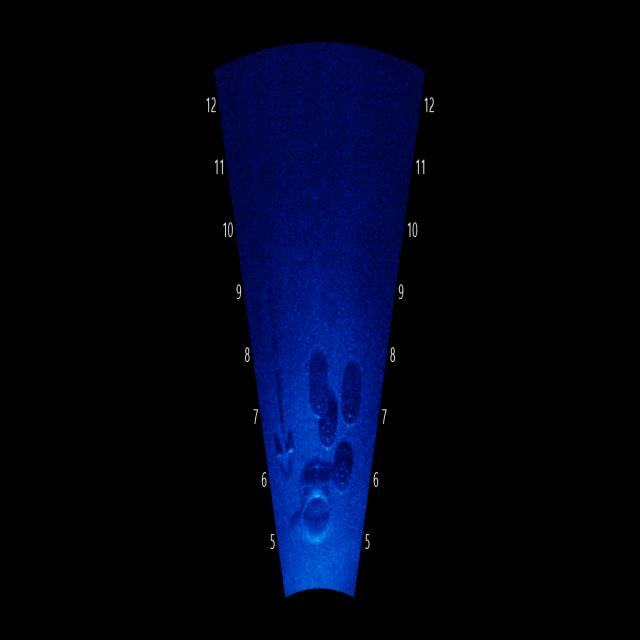circle: (295, 478, 338, 560), (329, 447, 356, 502), (304, 376, 332, 422), (317, 405, 341, 455), (337, 384, 361, 429)
